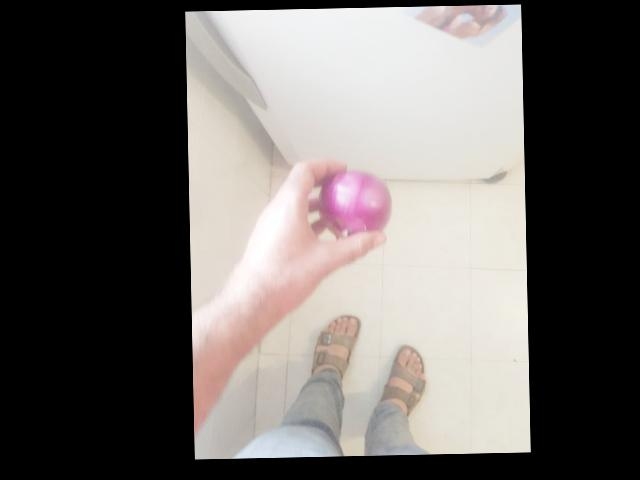onion: (318, 167, 392, 235)
